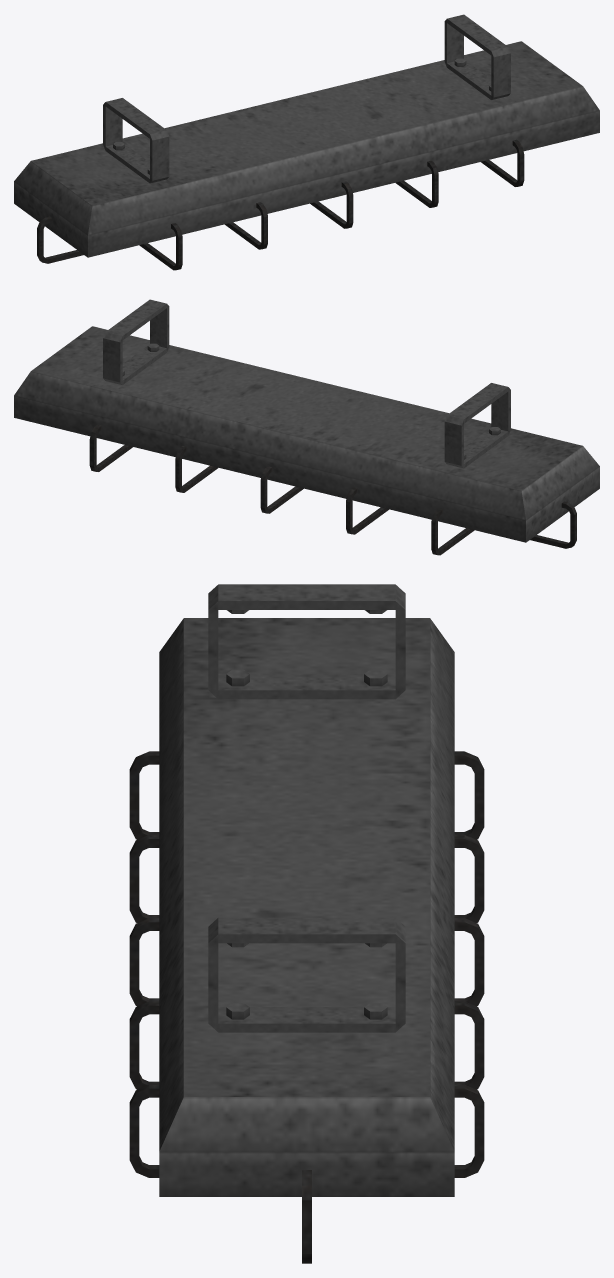
Rendered from ceiling_lamp_4_1_a_on.obj.
The picture shows the model from 3 angles, top to bottom: view 1: azimuth 30°, elevation 25°; view 2: azimuth 150°, elevation 25°; view 3: azimuth 270°, elevation 25°; orthographic projection. The views are drawn at different scales.
Parts seen in each view (by area): view 1: ceiling_lamp_4_1_a_on, ceiling_lamp_4_1_a_on_protector; view 2: ceiling_lamp_4_1_a_on, ceiling_lamp_4_1_a_on_protector; view 3: ceiling_lamp_4_1_a_on, ceiling_lamp_4_1_a_on_protector.
Part boxes in pixels (x1,y1,x2,y2): ceiling_lamp_4_1_a_on: [14, 14, 599, 257]; ceiling_lamp_4_1_a_on_protector: [37, 139, 524, 270]; ceiling_lamp_4_1_a_on: [14, 299, 599, 542]; ceiling_lamp_4_1_a_on_protector: [89, 424, 576, 555]; ceiling_lamp_4_1_a_on: [159, 584, 454, 1196]; ceiling_lamp_4_1_a_on_protector: [129, 751, 484, 1263].
Bounding box in the file's own units: 1.26 × 0.28 × 0.36.
